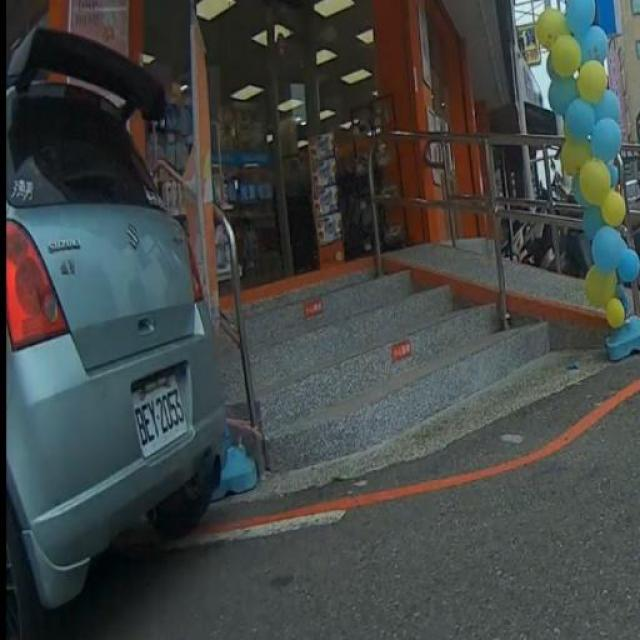Legalparking: (0, 55, 261, 603)
